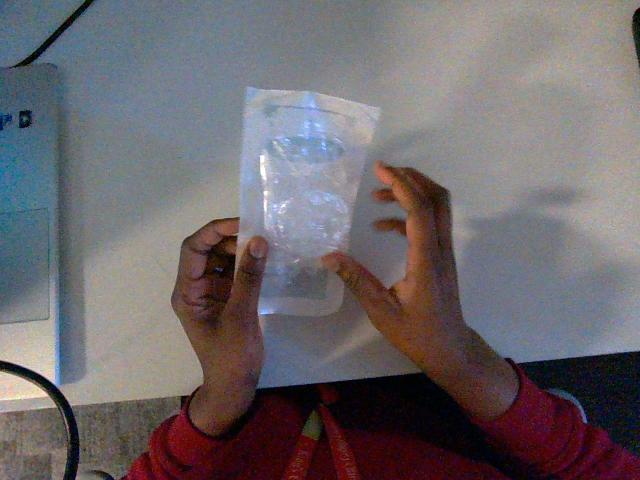gallipot: (238, 88, 379, 315)
